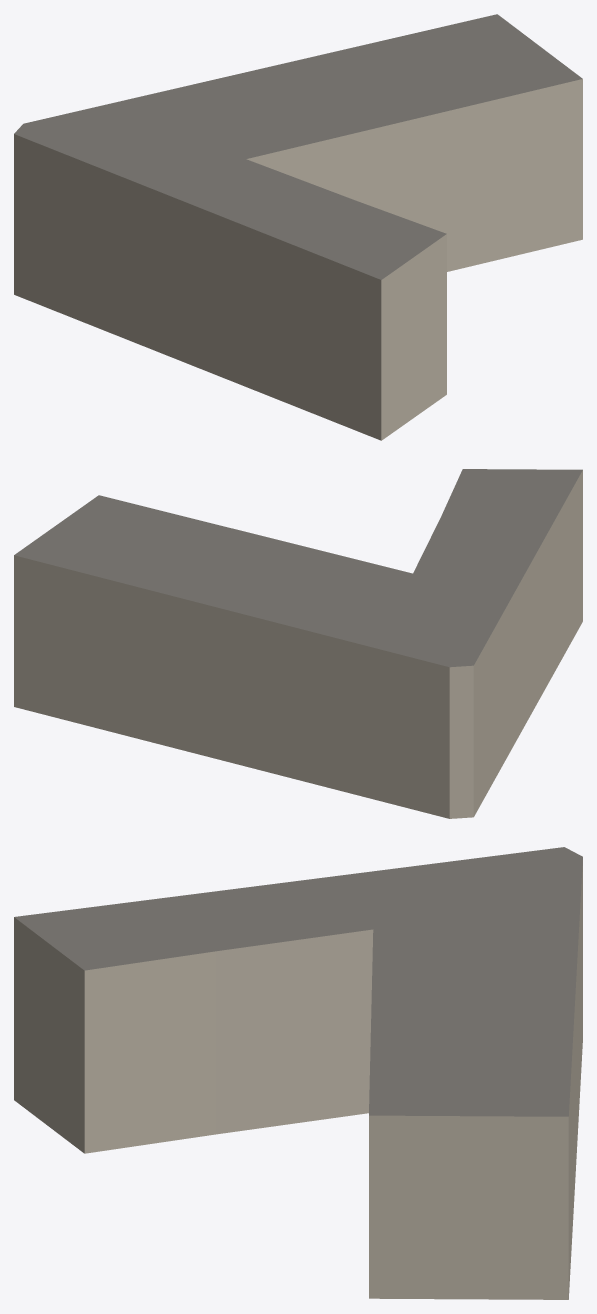
The picture shows the model from 3 angles, top to bottom: view 1: azimuth 30°, elevation 25°; view 2: azimuth 150°, elevation 25°; view 3: azimuth 270°, elevation 25°; orthographic projection. The views are drawn at different scales.
Parts seen in each view (by area): view 1: HP-w446934940; view 2: HP-w446934940; view 3: HP-w446934940.
Boxes of the visible parts, x1,y1,x2,y2 form: HP-w446934940: (14, 14, 582, 440); HP-w446934940: (14, 469, 582, 818); HP-w446934940: (14, 847, 582, 1299).
Size of the model in its own units: 56.87 by 18 by 50.68.
